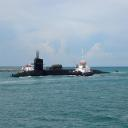submarine: (4, 51, 113, 78)
